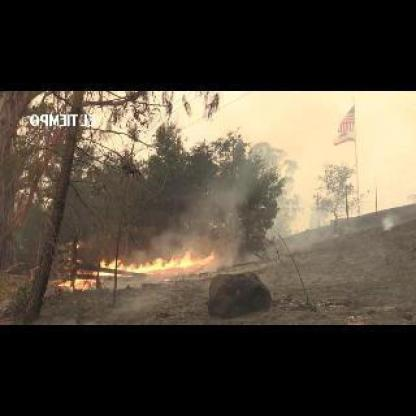fire: (92, 251, 218, 274)
